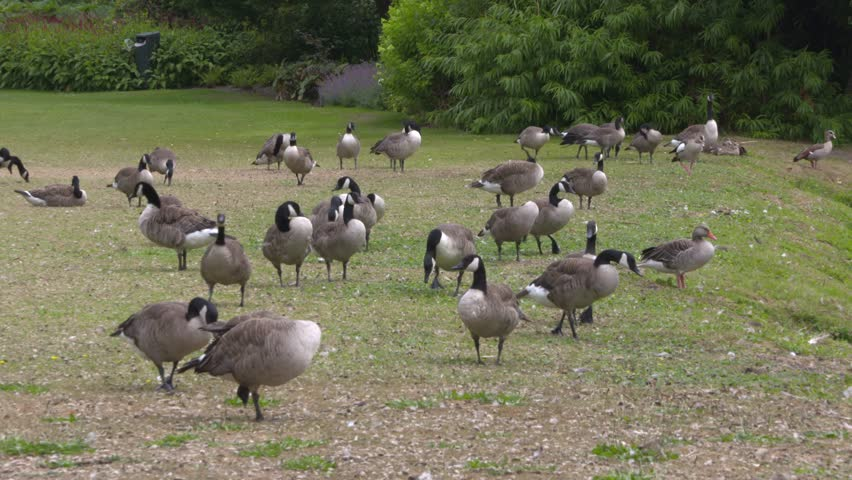goose: (169, 311, 325, 427), (512, 246, 644, 346), (105, 295, 221, 401), (129, 178, 229, 282), (448, 251, 518, 368), (630, 220, 718, 293), (197, 210, 255, 317), (256, 195, 310, 293), (413, 219, 478, 299), (512, 177, 579, 254), (311, 193, 368, 283), (461, 155, 548, 210), (306, 174, 391, 228), (567, 216, 606, 324), (311, 190, 378, 250), (471, 195, 540, 253), (551, 150, 610, 208), (371, 120, 427, 176), (671, 90, 723, 150), (106, 152, 154, 211), (12, 173, 88, 208), (274, 132, 319, 184), (248, 126, 290, 177), (664, 129, 708, 176), (510, 121, 561, 161), (790, 127, 837, 170), (627, 119, 668, 160), (561, 116, 598, 159), (332, 121, 360, 175), (597, 114, 630, 157), (145, 144, 180, 184), (1, 146, 35, 184)
